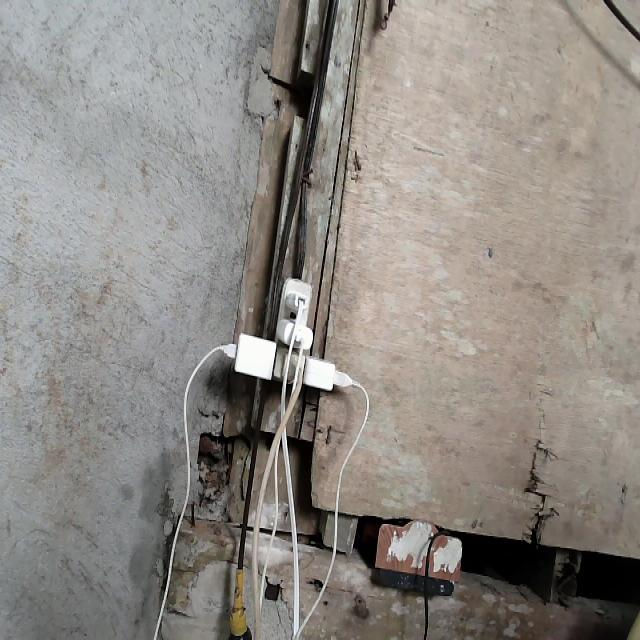-: (215, 280, 356, 389)
